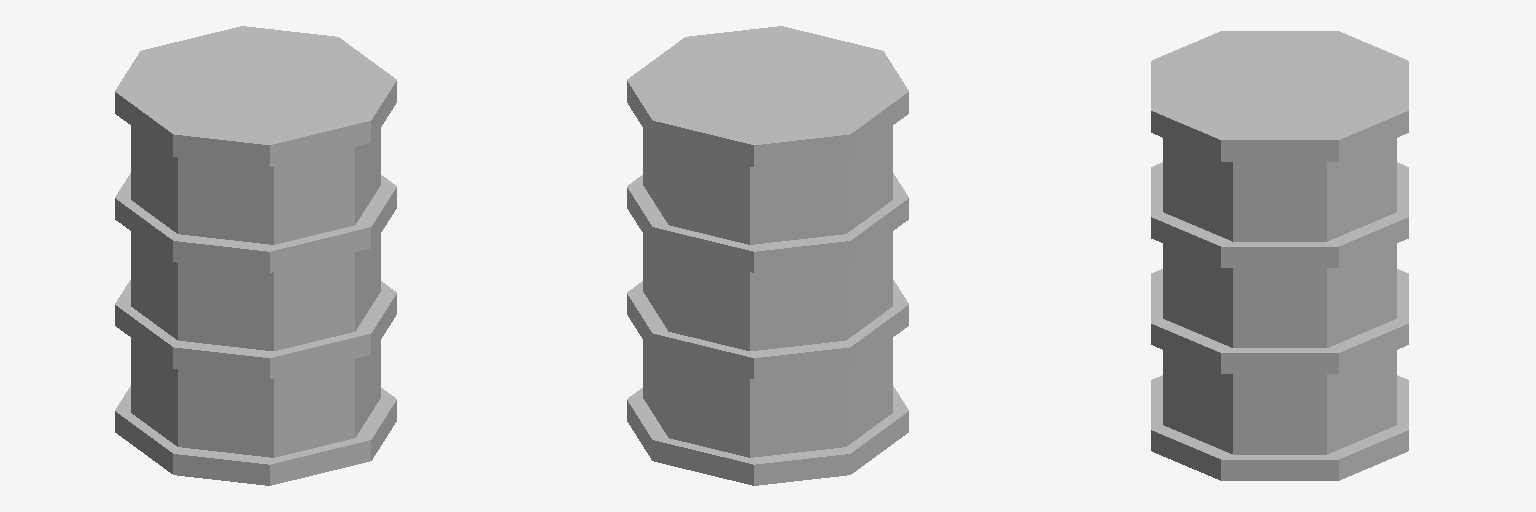
The model's file is drum.obj.
The picture shows the model from 3 angles: view 1: azimuth 30°, elevation 25°; view 2: azimuth 150°, elevation 25°; view 3: azimuth 270°, elevation 25°; orthographic projection.
Parts seen in each view (by area): view 1: Cube_Cube.001; view 2: Cube_Cube.001; view 3: Cube_Cube.001.
Boxes of the visible parts, x1=… form: Cube_Cube.001: x1=115, y1=26, x2=396, y2=485; Cube_Cube.001: x1=627, y1=26, x2=908, y2=485; Cube_Cube.001: x1=1151, y1=31, x2=1408, y2=480.
Bounding box in the file's own units: 0.6875 × 1 × 0.6875.